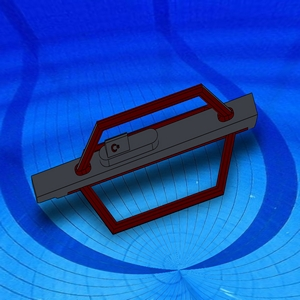submarine: (29, 80, 259, 235)
